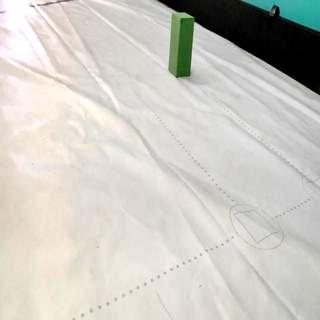greenbox: (168, 11, 194, 78)
